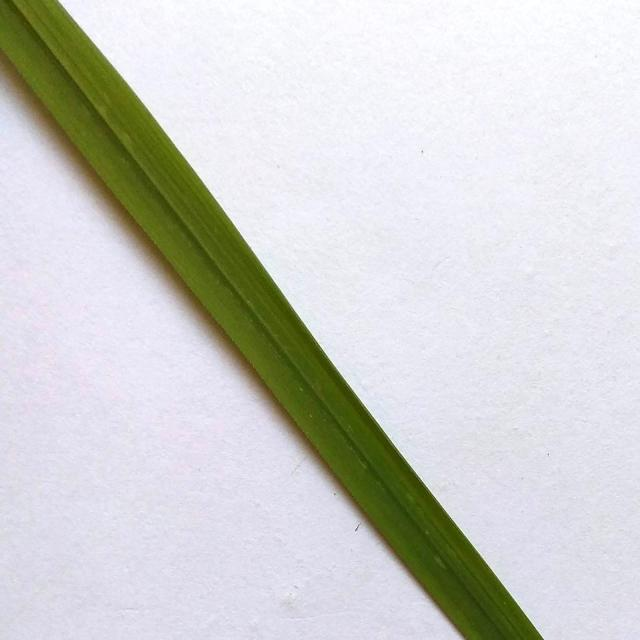healthy: (2, 0, 548, 640)
